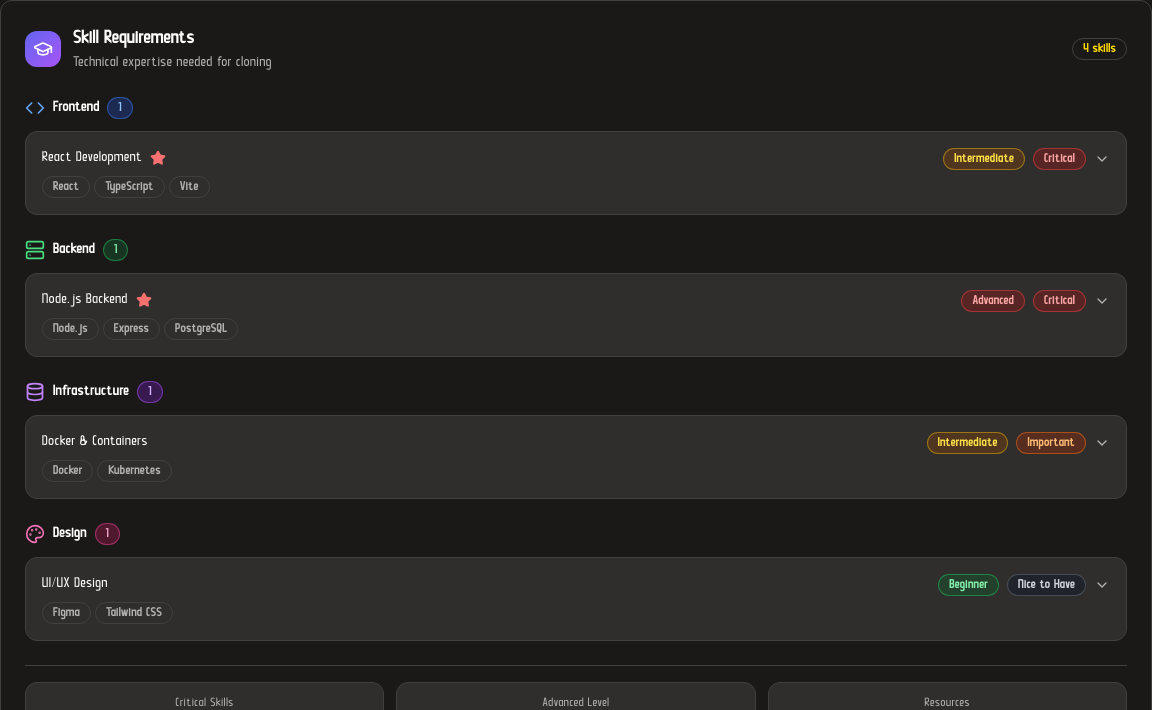
Test: SkillRequirementsSection › expands to show learning resources
Step 1. Click the heading "React Development" → (92, 158), box [42,148,142,168]
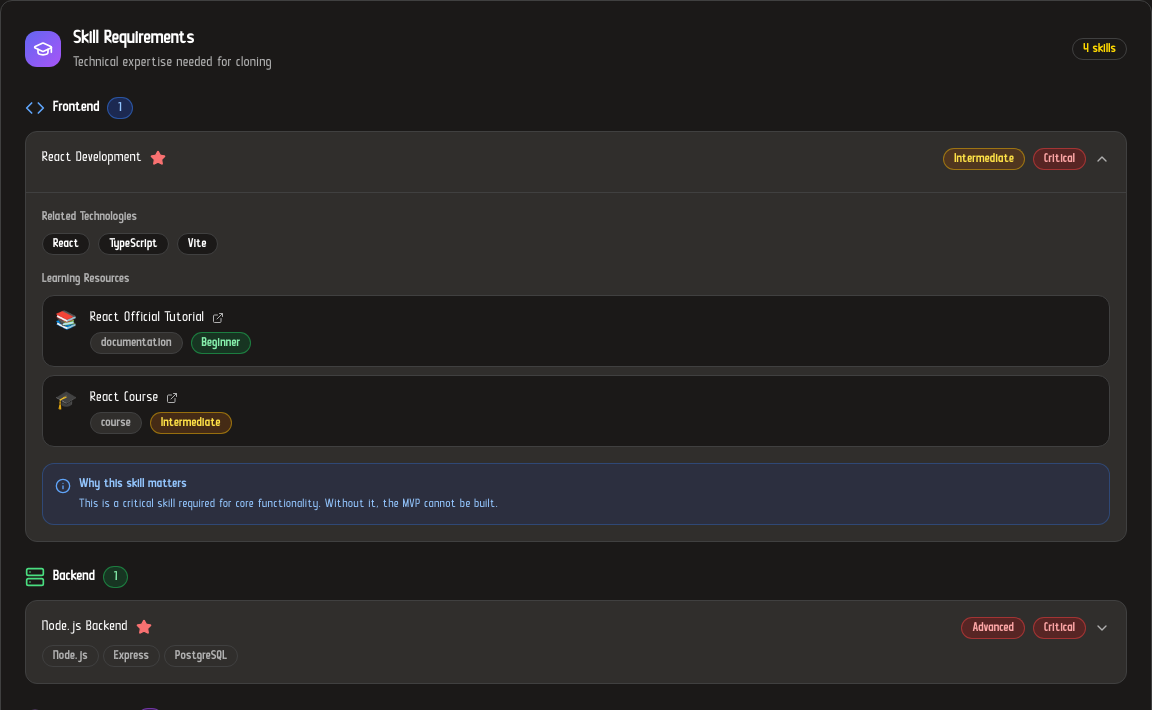
Expected: the text "React Official Tutorial" is shown, [90,308,204,328]
Expected: the text "React Course" is shown, [90,388,158,408]
